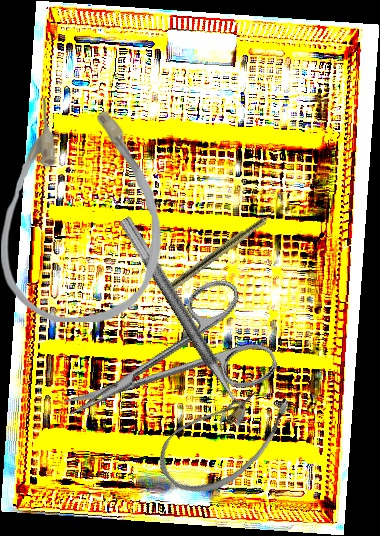Cannula: (1, 98, 161, 322), (147, 361, 303, 513)
Fixation Ring: (101, 215, 253, 435)
Handpiece: (168, 200, 289, 293)
Iris Scissors: (43, 270, 282, 457)
